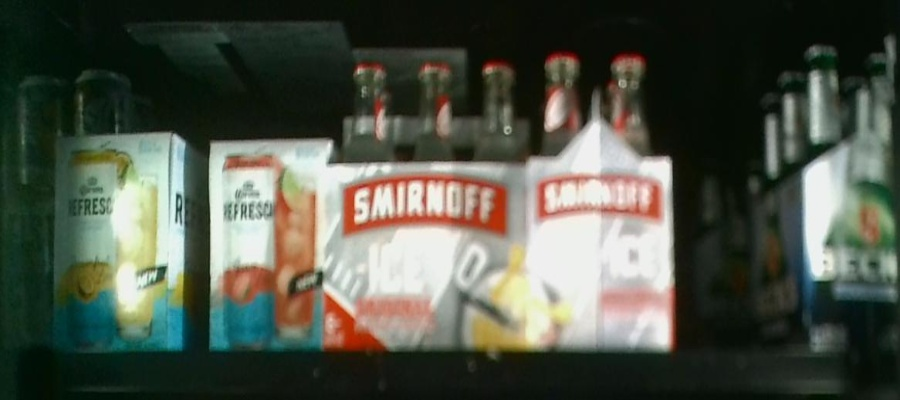bottle: (332, 58, 528, 348), (528, 52, 677, 353), (53, 137, 210, 342), (208, 136, 324, 346)
